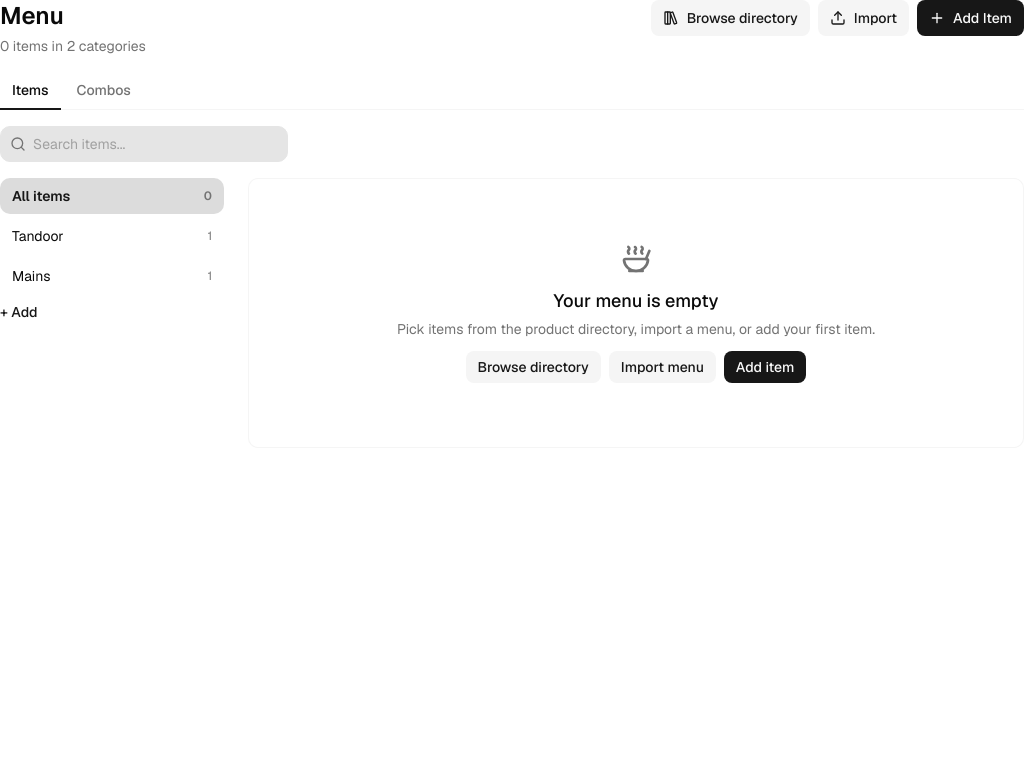
it: MenuManagement list › shows the true-empty state with Import/Add actions for a menu with zero items
Expected: the element with test id "menu-empty" is shown, [397,287,875,383]
Expected: the button with test id "menu-empty-add" is shown, [724,351,806,383]
Click the button with test id "menu-empty-import" at point(662, 367), box [609,351,716,383]
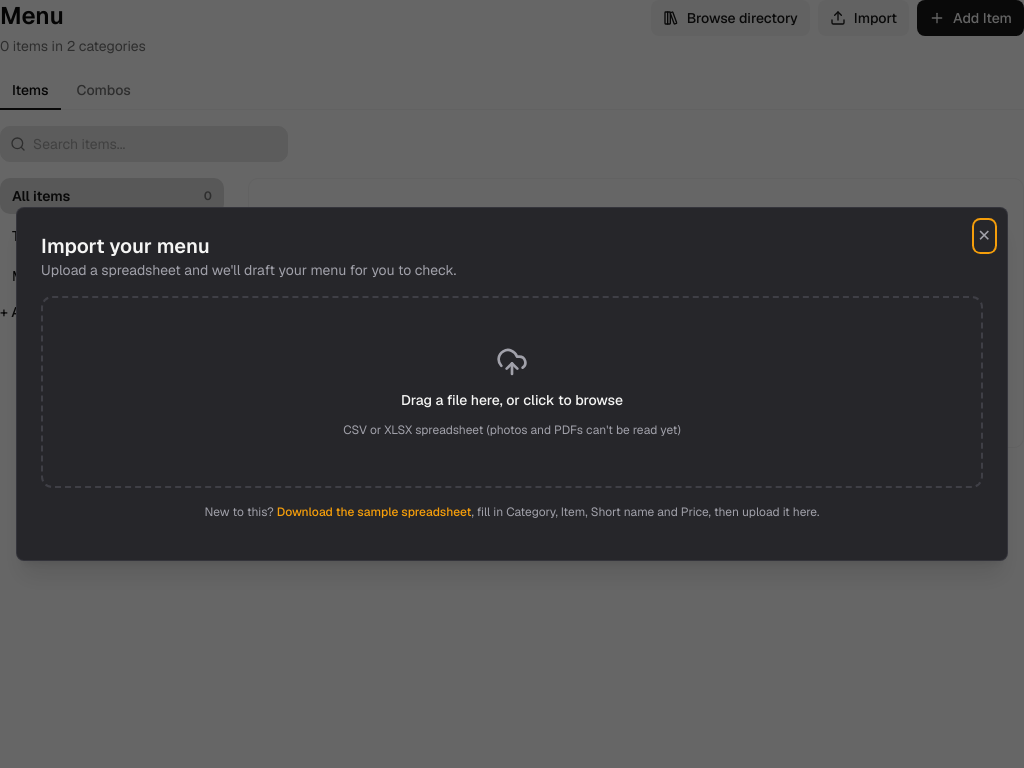
Result: the dialog with test id "menu-import-dialog" is shown at [16,207,1008,561]
